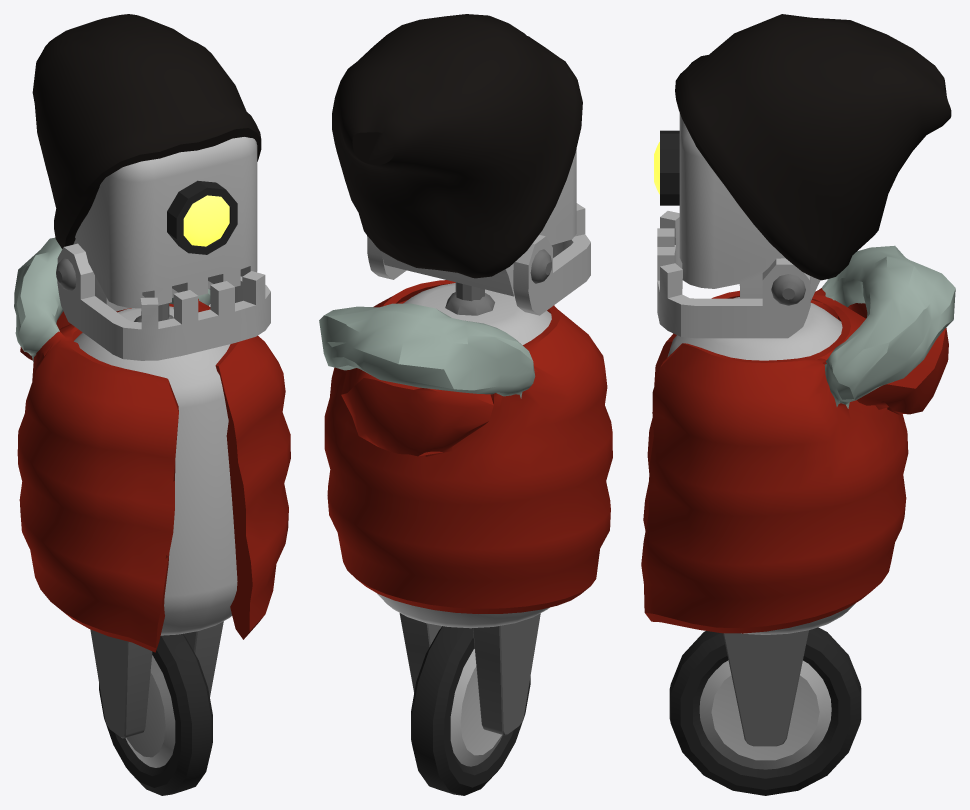
Rendered from RedBot.fbx.
3 renders of one model, left to right at view 1: azimuth 30°, elevation 25°; view 2: azimuth 150°, elevation 25°; view 3: azimuth 270°, elevation 25°, orthographic. The views are drawn at different scales.
Parts seen in each view (by area): view 1: RedBot; view 2: RedBot; view 3: RedBot.
Part boxes in pixels (<box>): RedBot: <box>14,14,290,795</box>; RedBot: <box>319,14,612,795</box>; RedBot: <box>641,14,955,795</box>.
Size of the model in its own units: 248 by 734 by 274.
